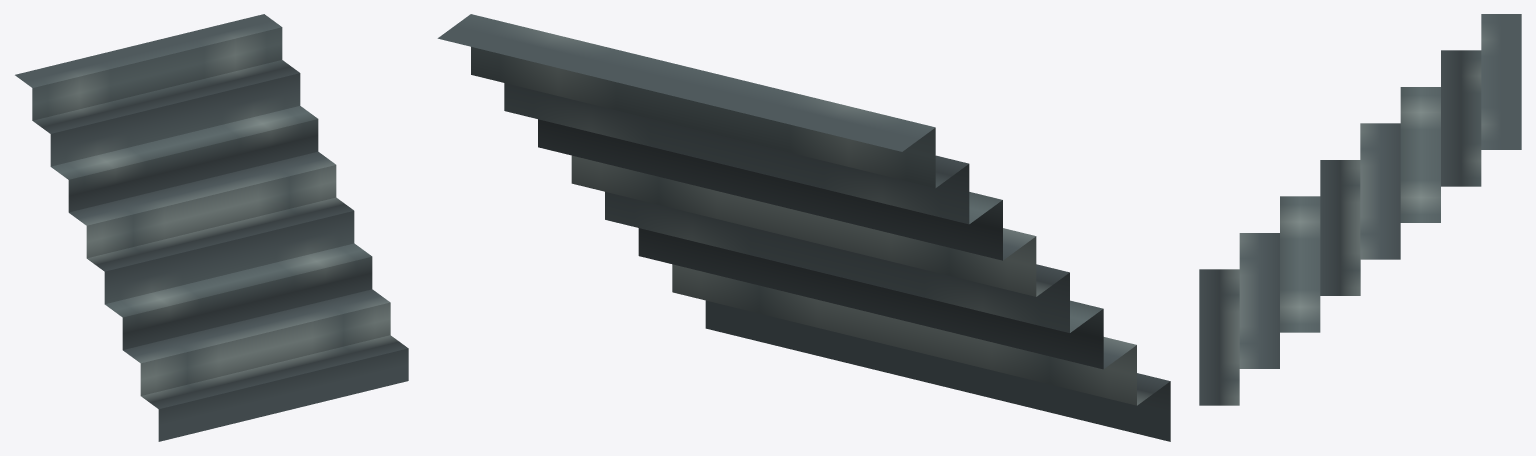
Rendered from stair_middle.obj.
The picture shows the model from 3 angles, left to right: view 1: azimuth 30°, elevation 25°; view 2: azimuth 150°, elevation 25°; view 3: azimuth 270°, elevation 25°; orthographic projection. The views are drawn at different scales.
Visible parts, largest first — view 1: Default; view 2: Default; view 3: Default.
Boxes of the visible parts, x1,y1,x2,y2 form: Default: (15, 14, 408, 441); Default: (437, 14, 1170, 441); Default: (1199, 14, 1521, 405).
Size of the model in its own units: 1 by 1 by 1.
